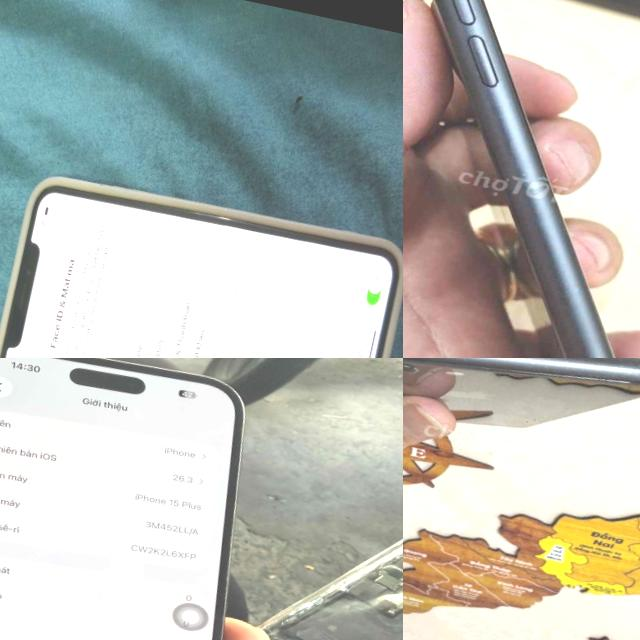gen_11: (403, 0, 640, 358)
gen_15: (0, 358, 329, 640)
gen_7_8: (403, 358, 640, 467)
gen_x_xs: (0, 164, 403, 358)
